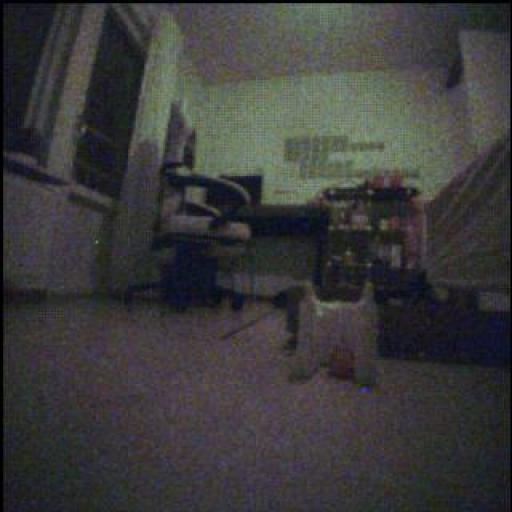basket: (327, 342, 358, 382)
